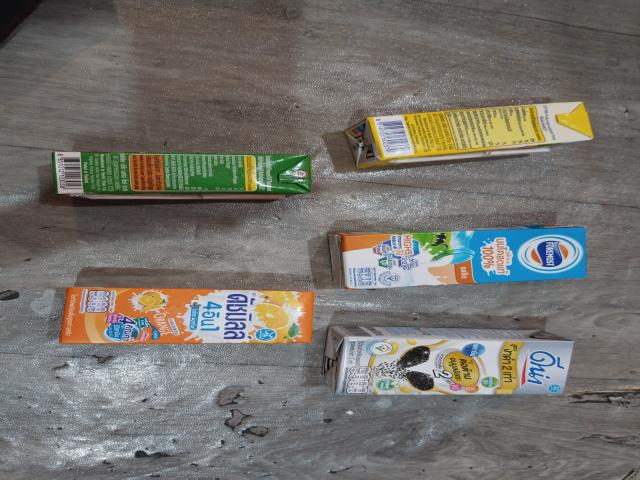drink_box: (339, 90, 609, 175), (324, 319, 584, 403), (57, 279, 328, 352), (320, 226, 590, 294), (51, 149, 314, 209)
